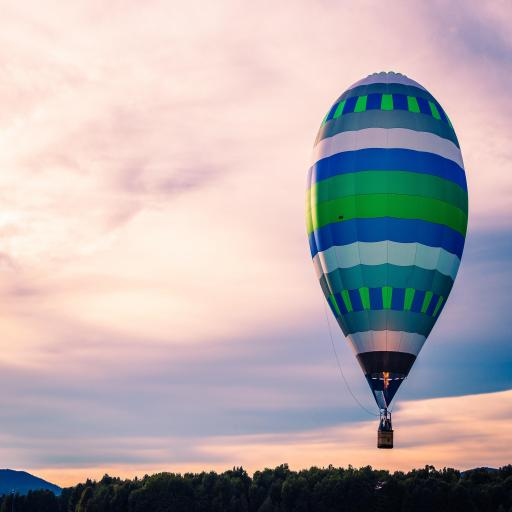hot air ballon: (305, 73, 469, 451)
